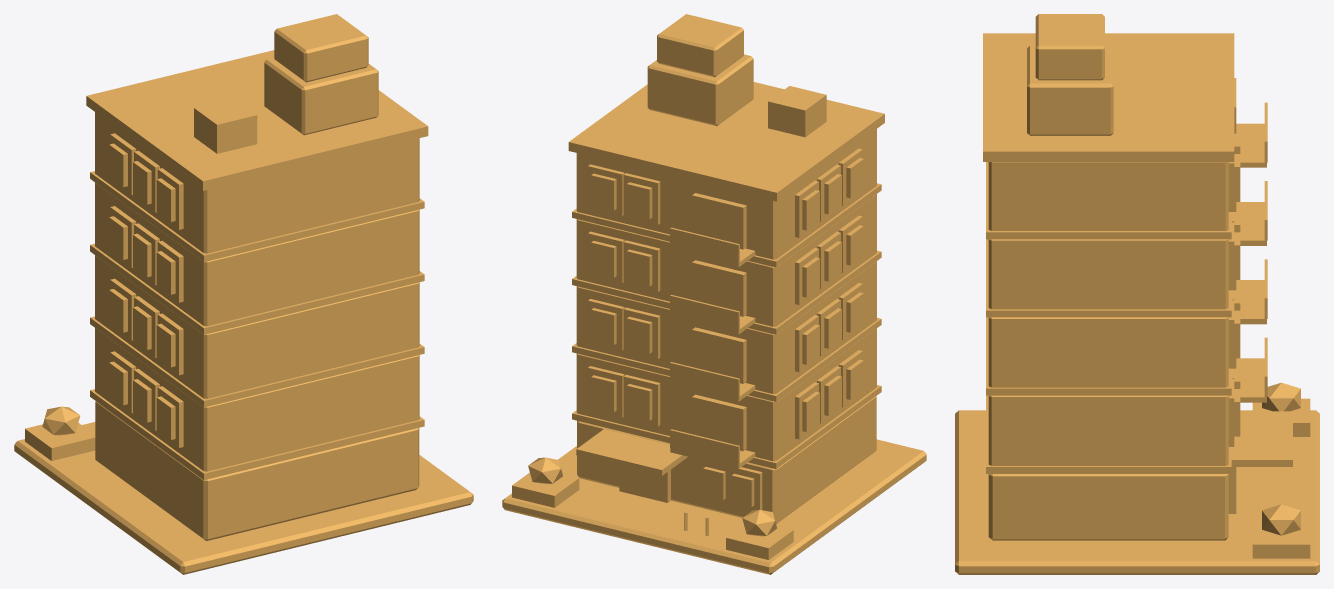
The picture shows the model from 3 angles, left to right: view 1: azimuth 30°, elevation 25°; view 2: azimuth 150°, elevation 25°; view 3: azimuth 270°, elevation 25°; orthographic projection. The views are drawn at different scales.
Visible parts, largest first — view 1: corpo; view 2: corpo; view 3: corpo.
Part boxes in pixels (x1,y1,x2,y2): corpo: (14,14,473,574); corpo: (502,14,926,574); corpo: (955,14,1319,574).
Size of the model in its own units: 1.9 by 2.84 by 1.9.
